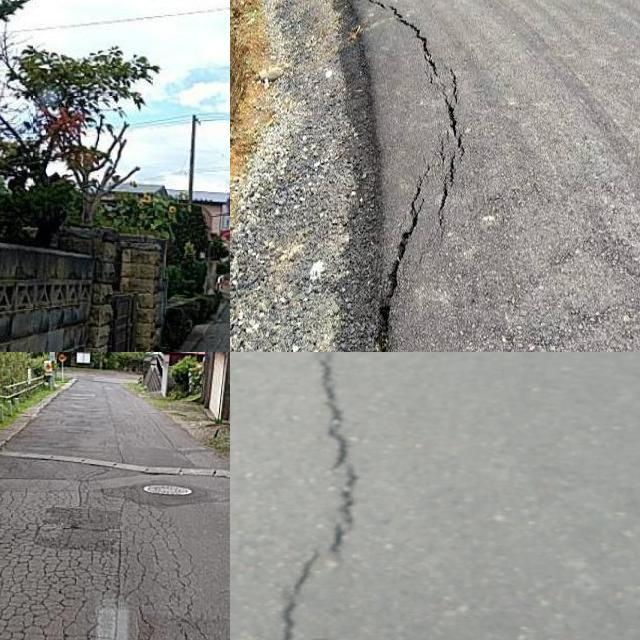Memanjang: (264, 352, 377, 640)
Pinggir: (285, 0, 486, 352)
Retak Buaya: (0, 492, 118, 640)
